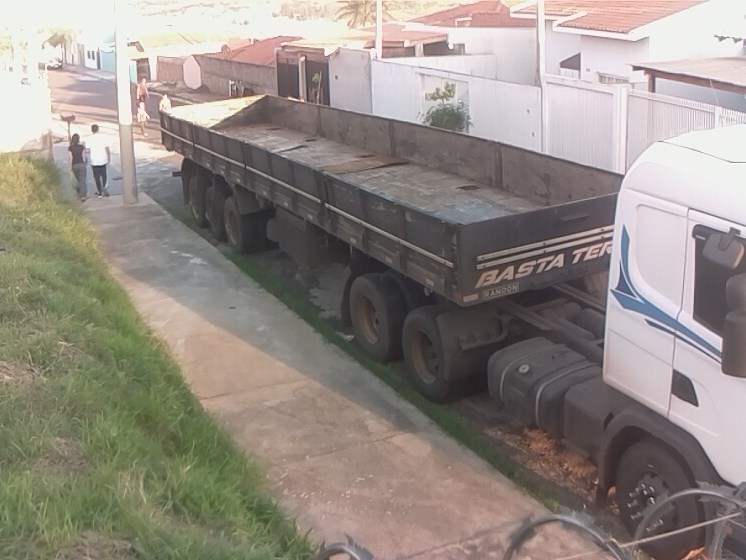person: (85, 124, 112, 200), (68, 133, 90, 202), (134, 75, 153, 140), (135, 74, 153, 101), (158, 91, 174, 111)
